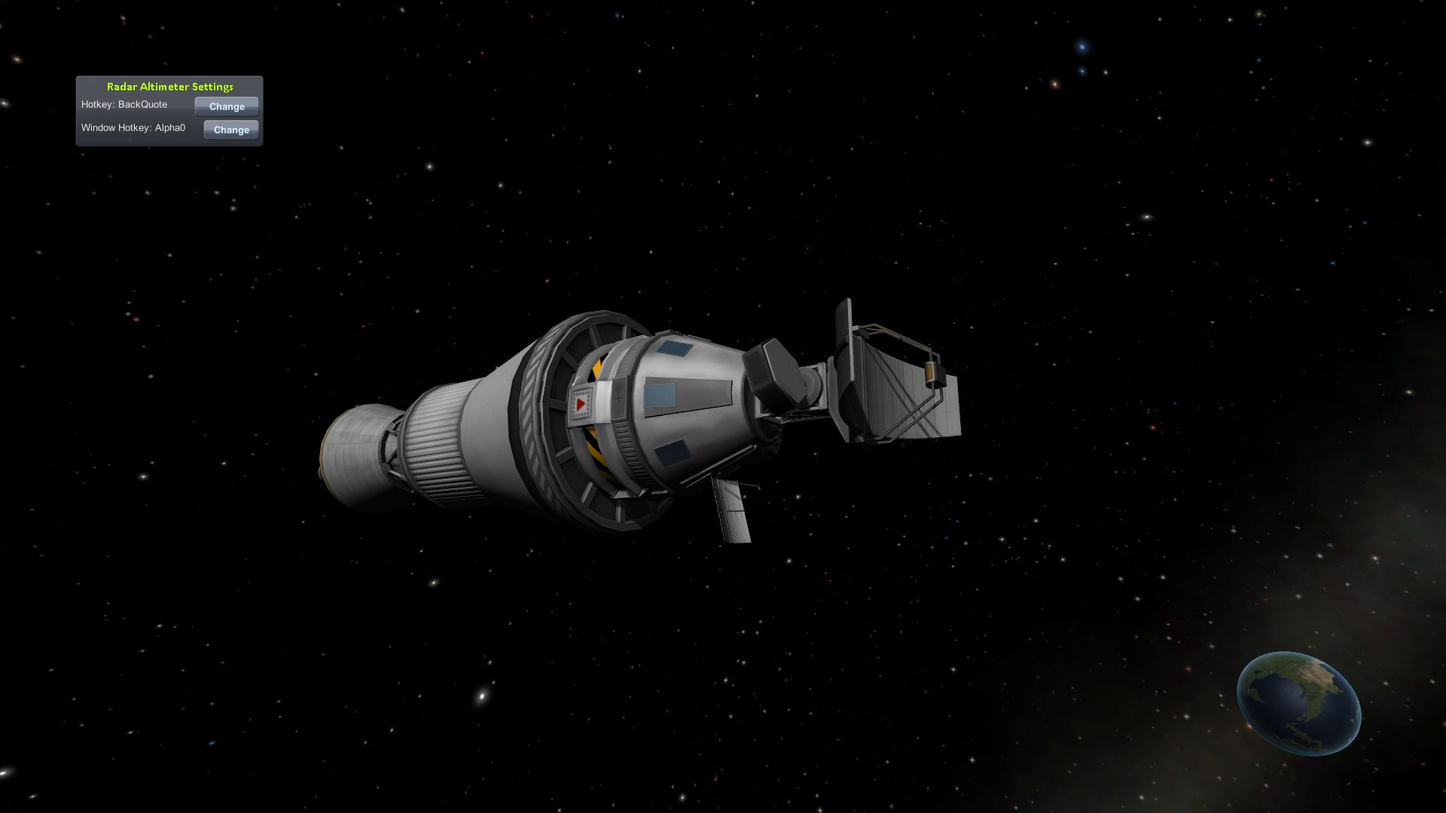antenna: (831, 295, 967, 445), (741, 333, 810, 415), (707, 473, 767, 545)
solar: (651, 437, 694, 470), (642, 380, 677, 410), (654, 338, 694, 359)
